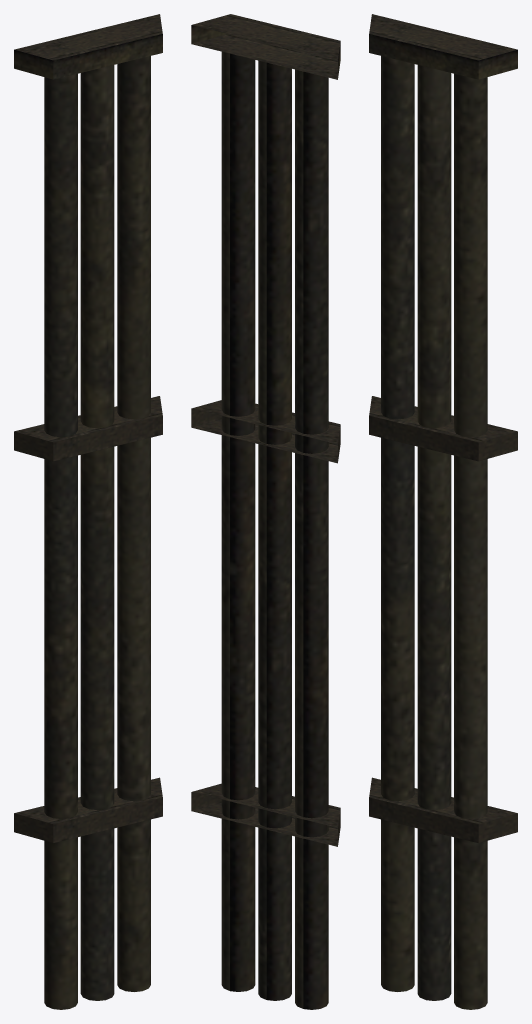
Rendered from pipes_hr_1_vertical_end_1.dae.
3 views of the same model, side by side, from view 1: azimuth 30°, elevation 25°; view 2: azimuth 150°, elevation 25°; view 3: azimuth 330°, elevation 25° (orthographic).
Visible parts, largest first — view 1: pipes_hr_1_vertical_end_1; view 2: pipes_hr_1_vertical_end_1; view 3: pipes_hr_1_vertical_end_1.
Part boxes in pixels (<box>): pipes_hr_1_vertical_end_1: <box>14,14,162,1009</box>; pipes_hr_1_vertical_end_1: <box>191,14,340,1009</box>; pipes_hr_1_vertical_end_1: <box>369,14,517,1009</box>.
Bounding box in the file's own units: 0.4 × 0.1 × 2.5.
Materials: 1 (1 with a texture image).
